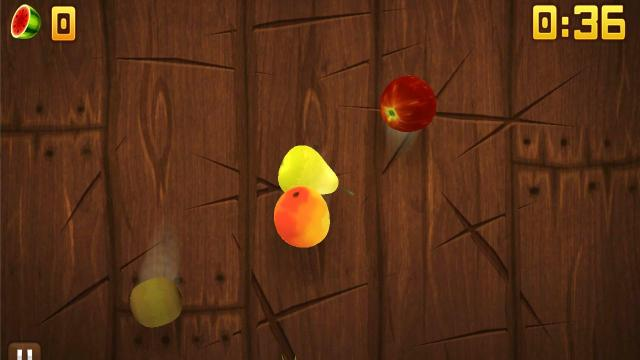fruit: (274, 185, 330, 247), (379, 74, 437, 132), (277, 144, 339, 196), (129, 276, 183, 328)
ignore: (10, 4, 42, 40)
